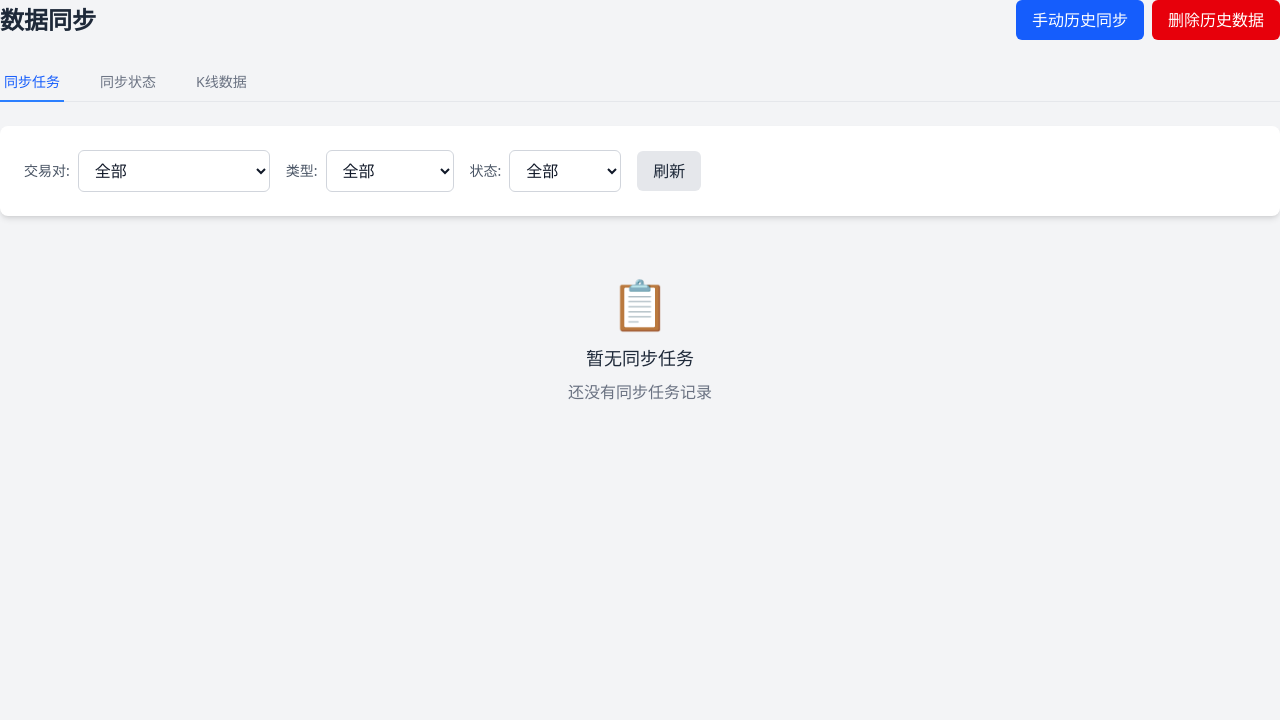
Test case: SyncTaskList - 时间范围输入与校验 › 删除历史数据弹窗 › 点击删除历史数据按钮应打开弹窗
Click the button "删除历史数据".
click(1216, 20)  # box [1152,0,1279,40]
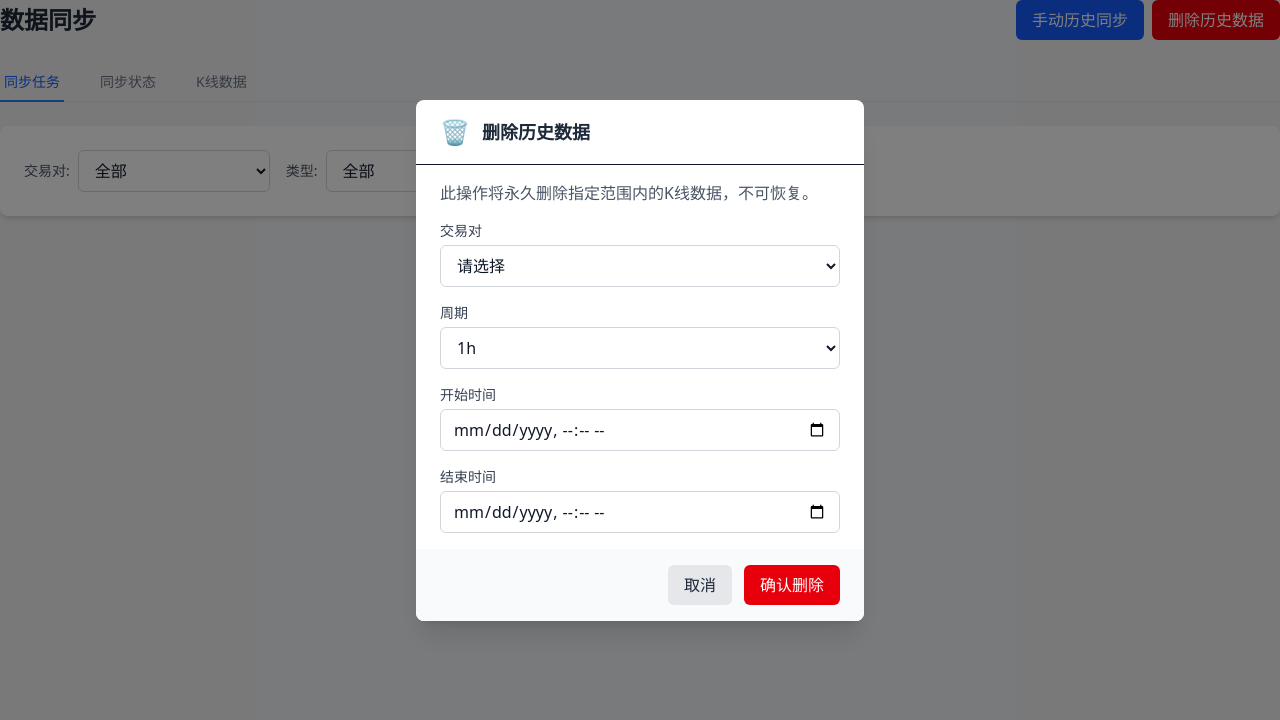
Check: the text "此操作将永久删除指定范围内的K线数据" is shown, box [440,182,818,204]
